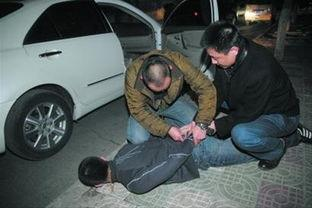bending: (196, 20, 305, 182), (117, 47, 218, 143)
down: (75, 124, 312, 198)
